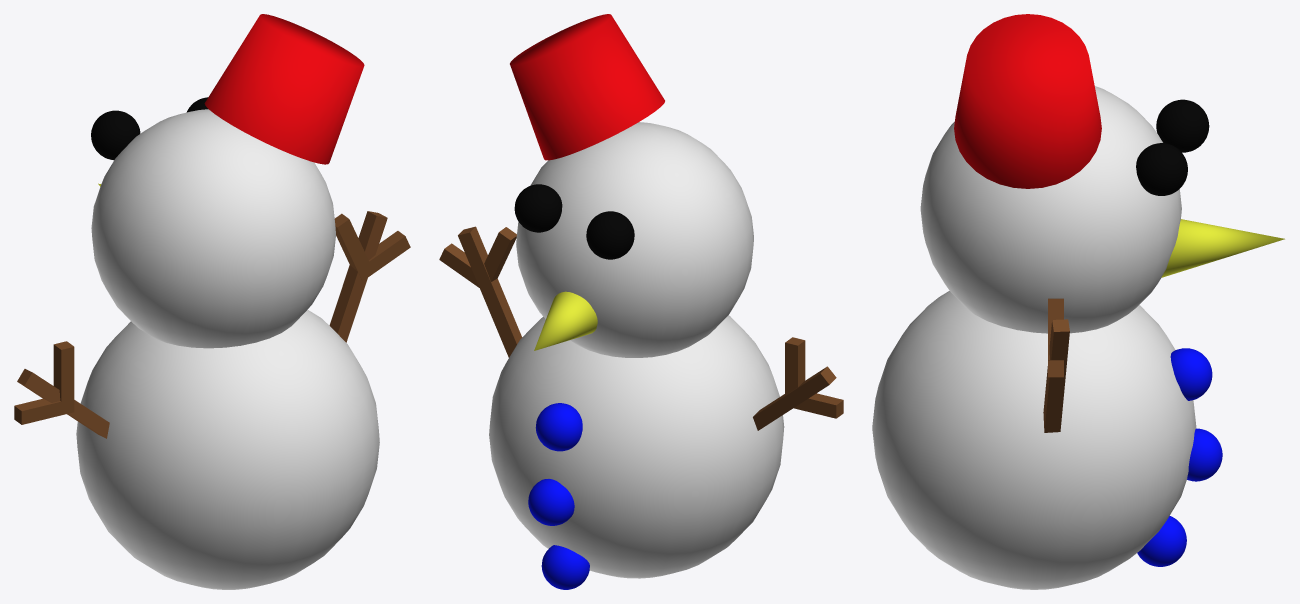
The picture shows the model from 3 angles, left to right: view 1: azimuth 30°, elevation 25°; view 2: azimuth 150°, elevation 25°; view 3: azimuth 270°, elevation 25°; orthographic projection. The views are drawn at different scales.
Visible parts, largest first — view 1: 球, 球.001, 円柱, 立方体.004, 立方体, 球.002; view 2: 球, 球.001, 円柱, 立方体.004, 立方体, 円錐, 球.002, 球.003, 球.005, 球.004, 球.006; view 3: 球, 球.001, 円柱, 円錐, 立方体.004, 球.003, 球.002, 球.005, 球.006, 球.004.
Boxes of the visible parts, <box> form: 球: <box>76,309,379,589</box>; 球.001: <box>91,109,335,348</box>; 円柱: <box>204,14,364,164</box>; 立方体.004: <box>329,211,410,342</box>; 立方体: <box>14,341,109,438</box>; 球.002: <box>91,110,140,160</box>; 球: <box>489,315,784,578</box>; 球.001: <box>516,122,753,357</box>; 円柱: <box>510,14,664,160</box>; 立方体.004: <box>439,226,522,357</box>; 立方体: <box>753,337,843,430</box>; 円錐: <box>534,291,597,350</box>; 球.002: <box>586,211,634,259</box>; 球.003: <box>514,184,562,232</box>; 球.005: <box>535,403,582,451</box>; 球.004: <box>528,479,574,525</box>; 球.006: <box>541,545,589,589</box>; 球: <box>872,291,1196,589</box>; 球.001: <box>920,86,1181,333</box>; 円柱: <box>954,14,1101,188</box>; 円錐: <box>1161,219,1284,277</box>; 立方体.004: <box>1043,298,1069,432</box>; 球.003: <box>1136,143,1187,195</box>; 球.002: <box>1156,99,1209,152</box>; 球.005: <box>1170,348,1212,400</box>; 球.006: <box>1137,516,1186,566</box>; 球.004: <box>1187,428,1222,481</box>.
Bounding box in the file's own units: 3.03 × 3.95 × 2.55.
